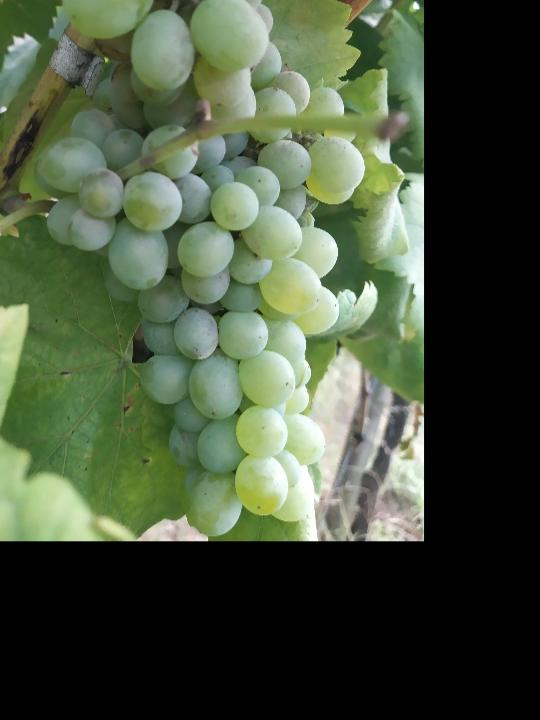grape: (39, 0, 370, 537)
